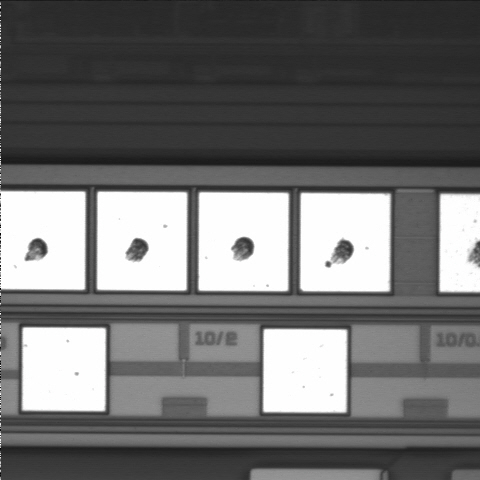pad: (199, 192, 289, 291), (97, 192, 187, 290), (300, 193, 390, 291), (22, 328, 106, 411), (263, 329, 347, 412)
